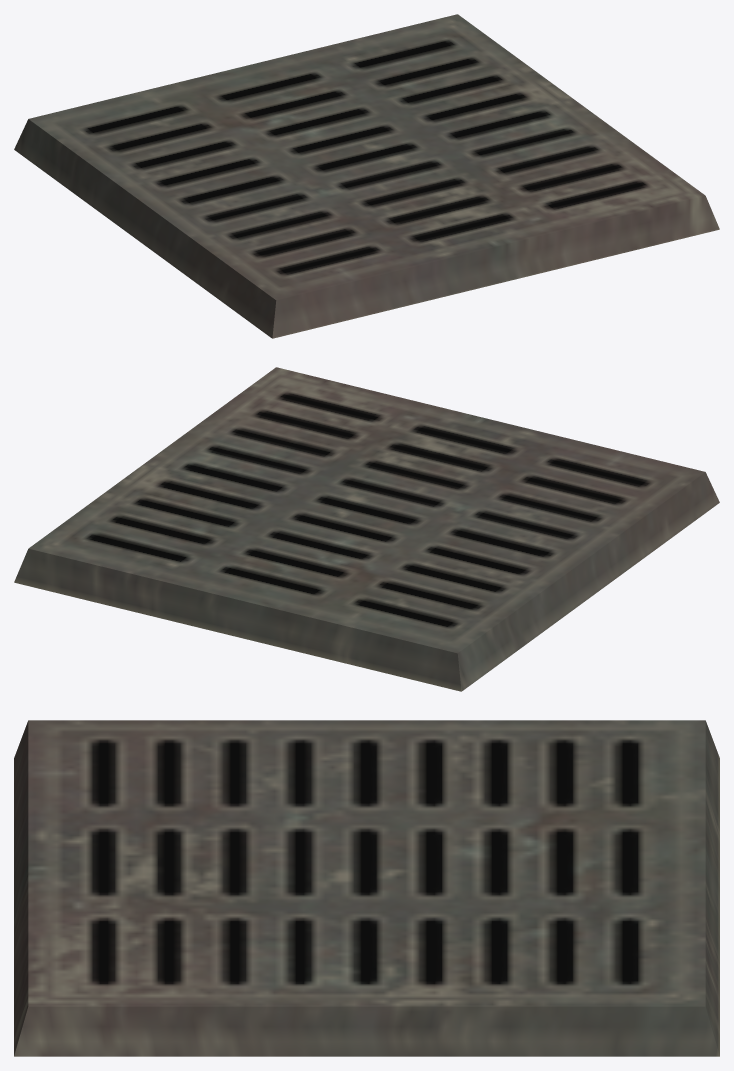
Rendered from q-downtown-prop-drain.glb.
3 renders of one model, top to bottom at view 1: azimuth 30°, elevation 25°; view 2: azimuth 150°, elevation 25°; view 3: azimuth 270°, elevation 25°, orthographic. The views are drawn at different scales.
Visible parts, largest first — view 1: Prop_Drain; view 2: Prop_Drain; view 3: Prop_Drain.
Part boxes in pixels (x1=…): Prop_Drain: x1=14, y1=14, x2=719, y2=338; Prop_Drain: x1=14, y1=367, x2=719, y2=691; Prop_Drain: x1=14, y1=720, x2=719, y2=1056.
Size of the model in its own units: 0.5852 by 0.0404 by 0.5852.
1 material, 1 textured.
